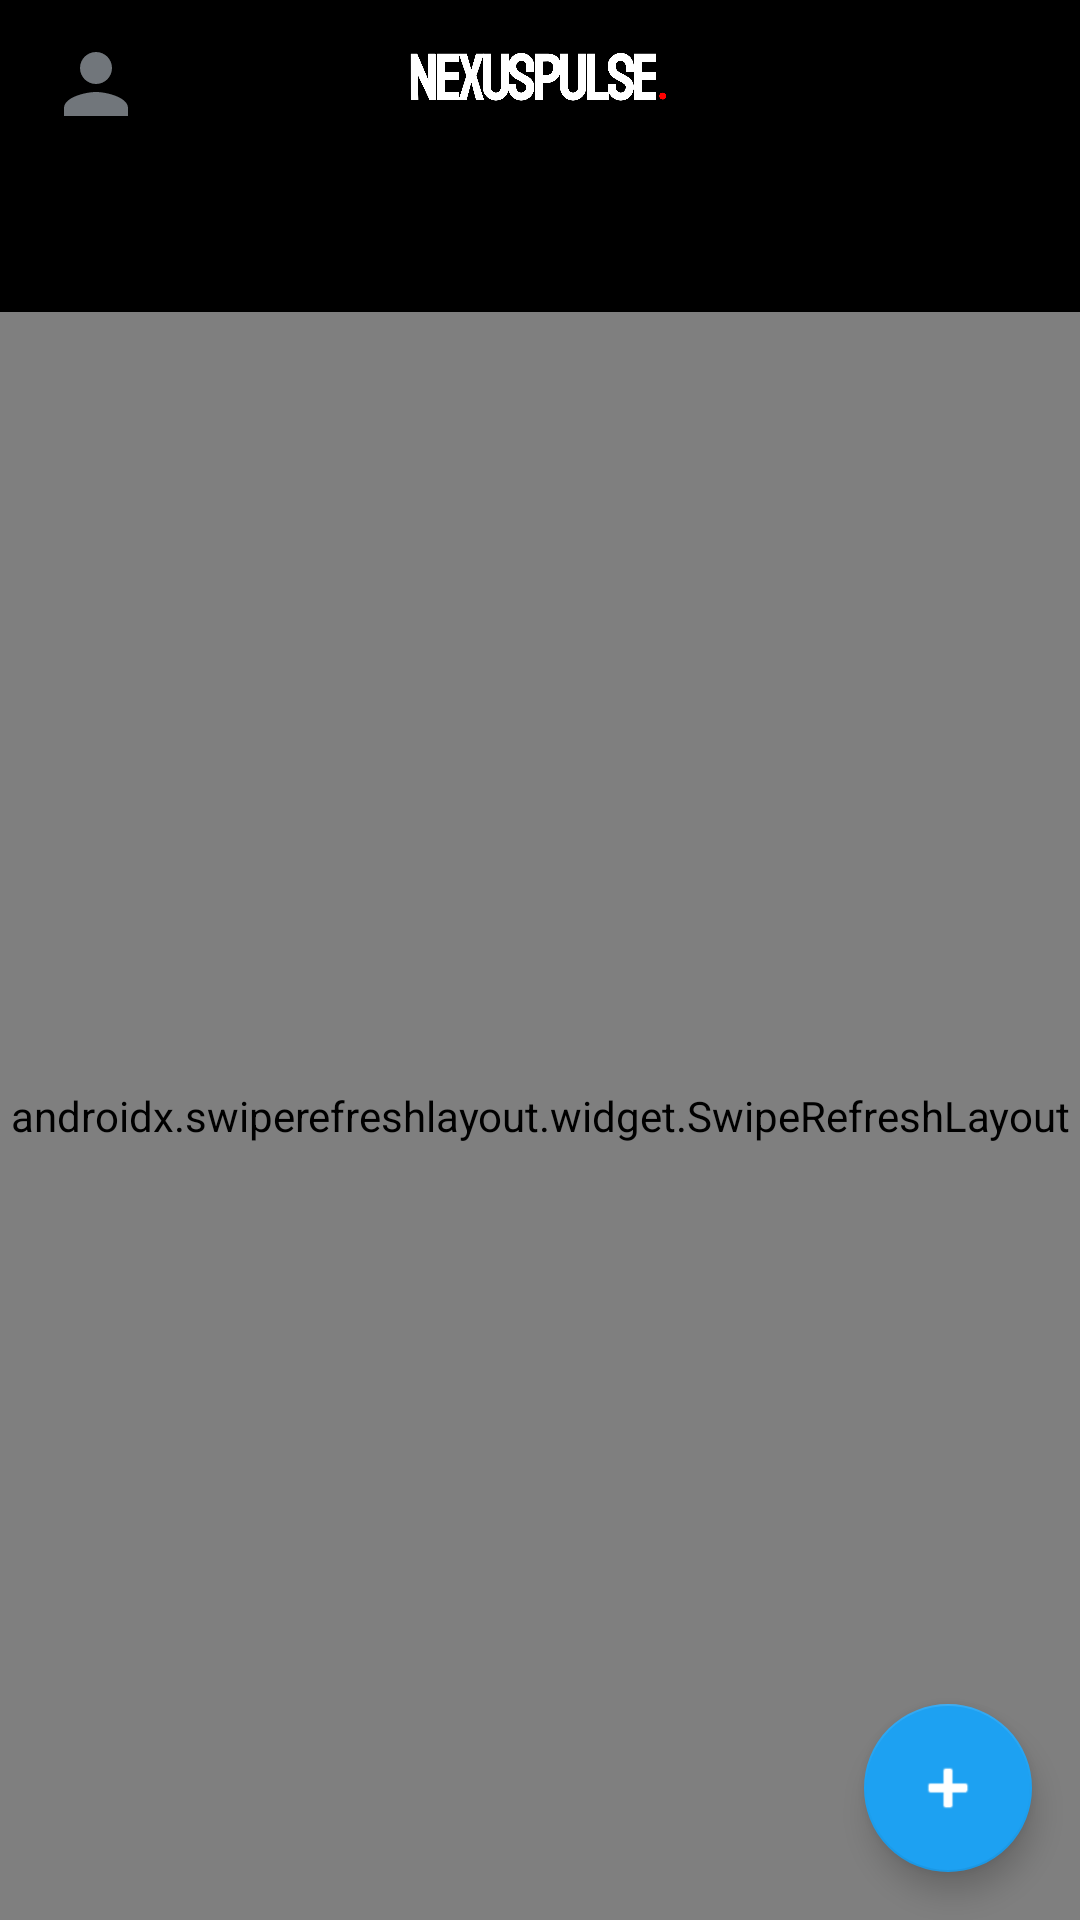

Icon click points for this 1080px x 1920px phone screenshot, format (x,y):
Create Tweet: (948,1788)
profile: (96,84)
